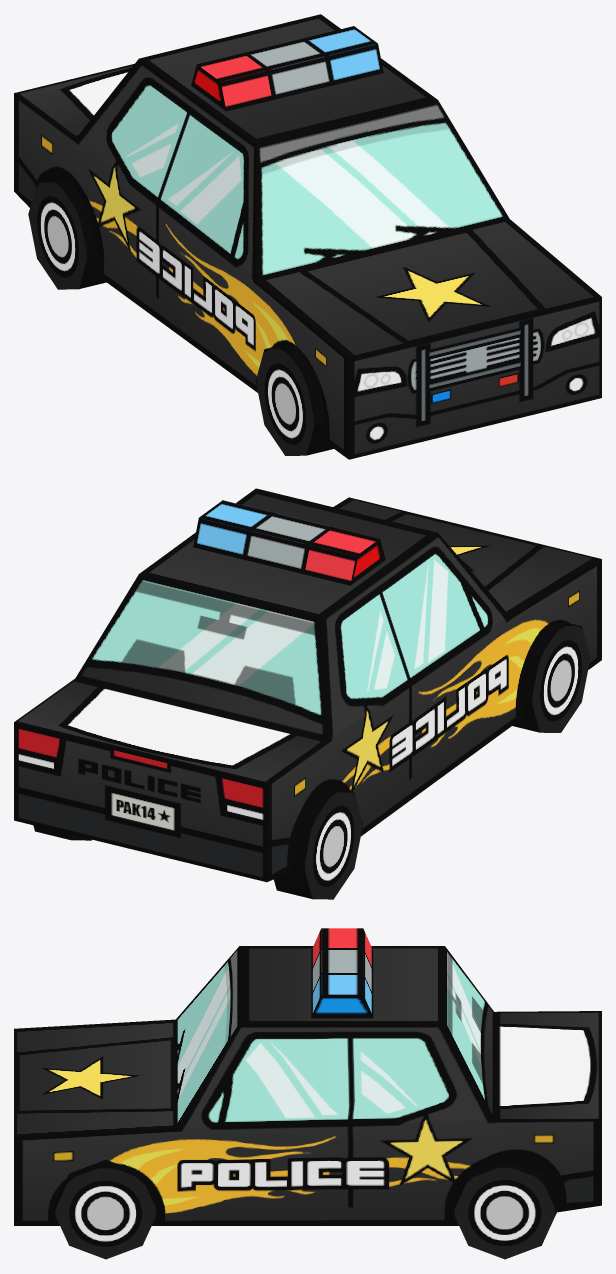
The model's file is car12_15.gltf.
3 renders of one model, top to bottom at view 1: azimuth 30°, elevation 25°; view 2: azimuth 150°, elevation 25°; view 3: azimuth 270°, elevation 25°, orthographic. The views are drawn at different scales.
Visible parts, largest first — view 1: Cylinder.002; view 2: Cylinder.002; view 3: Cylinder.002.
Boxes of the visible parts, <box> form: Cylinder.002: <box>14,14,601,459</box>; Cylinder.002: <box>14,488,601,899</box>; Cylinder.002: <box>14,928,601,1259</box>.
Size of the model in its own units: 2.79 by 2.59 by 5.83.
1 material, 1 textured.
